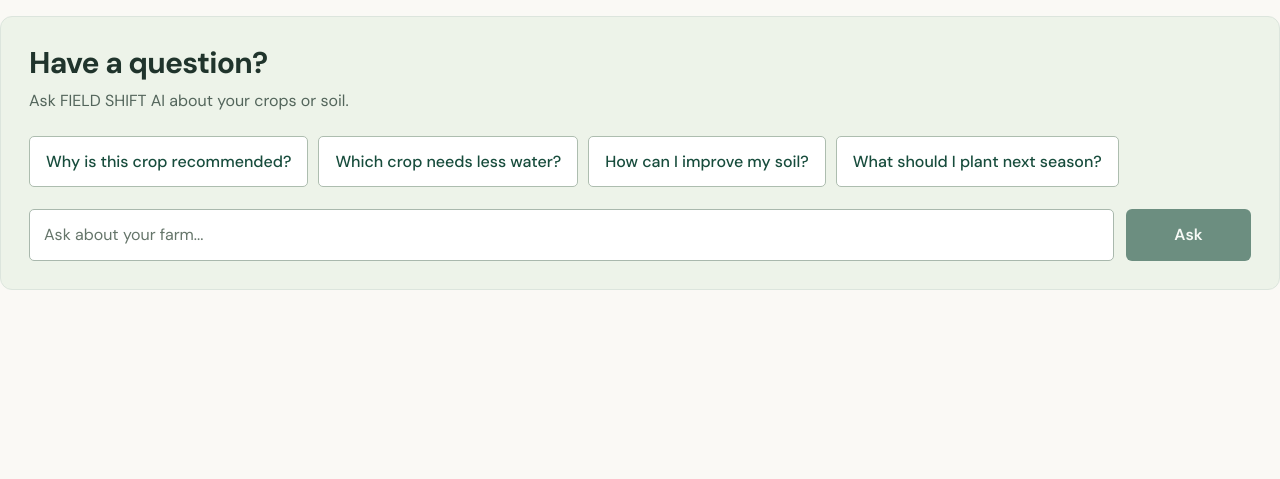
Test case: asks only on submit, disables duplicate requests and labels deterministic answers
Later steps or results of the test are not shown.
Type "Explain the soil" into the field labelled "Ask about your farm" at (572,235), box [29,209,1114,261]
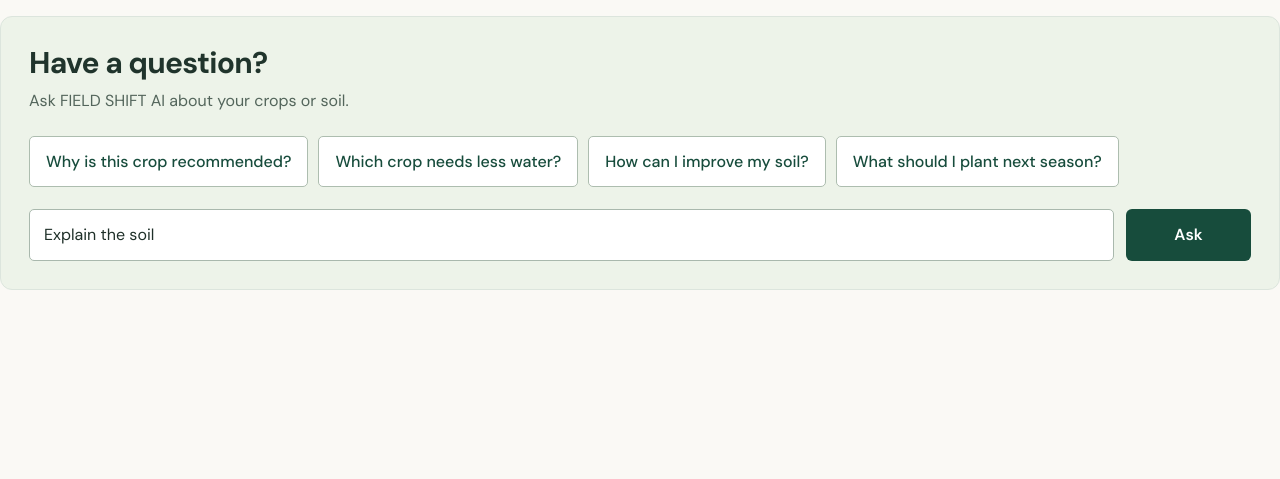
Click the button "Ask" at (1188,235), box [1126,209,1251,261]
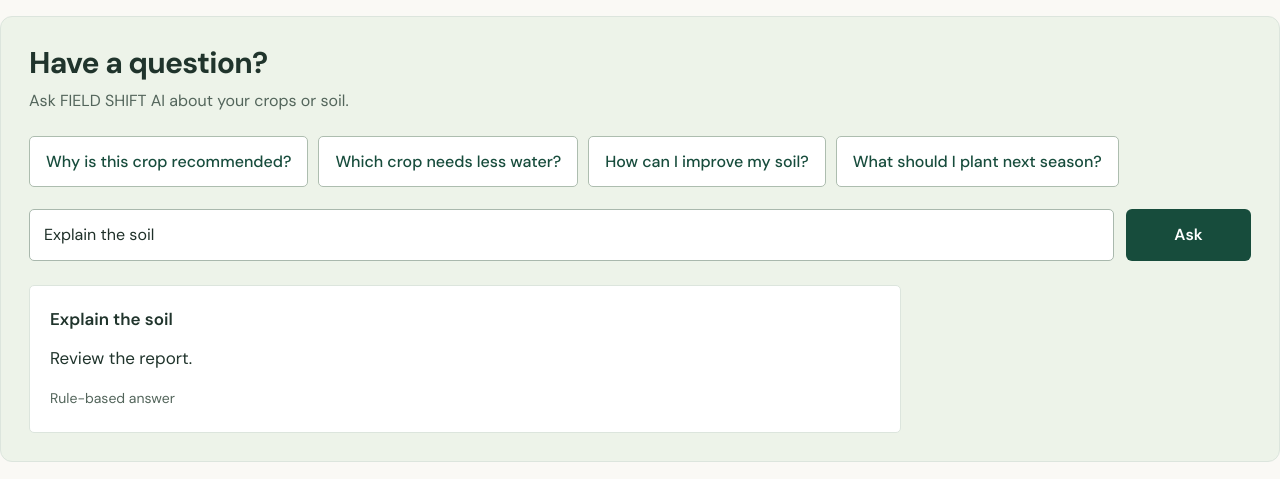
Expected: the text "Rule-based answer" is shown, [50,389,175,407]
Expected: the text "Review the report." is shown, [50,347,192,369]
